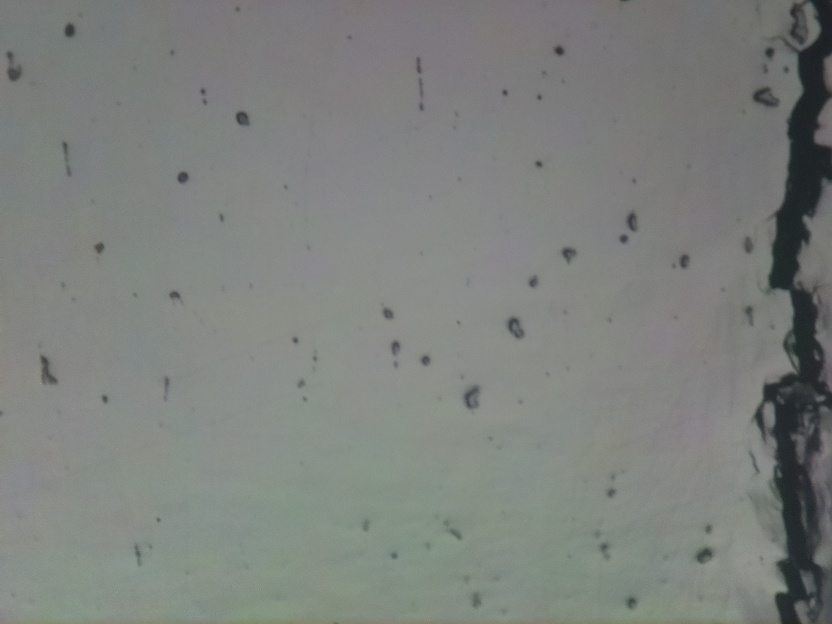crack: (759, 0, 832, 623)
